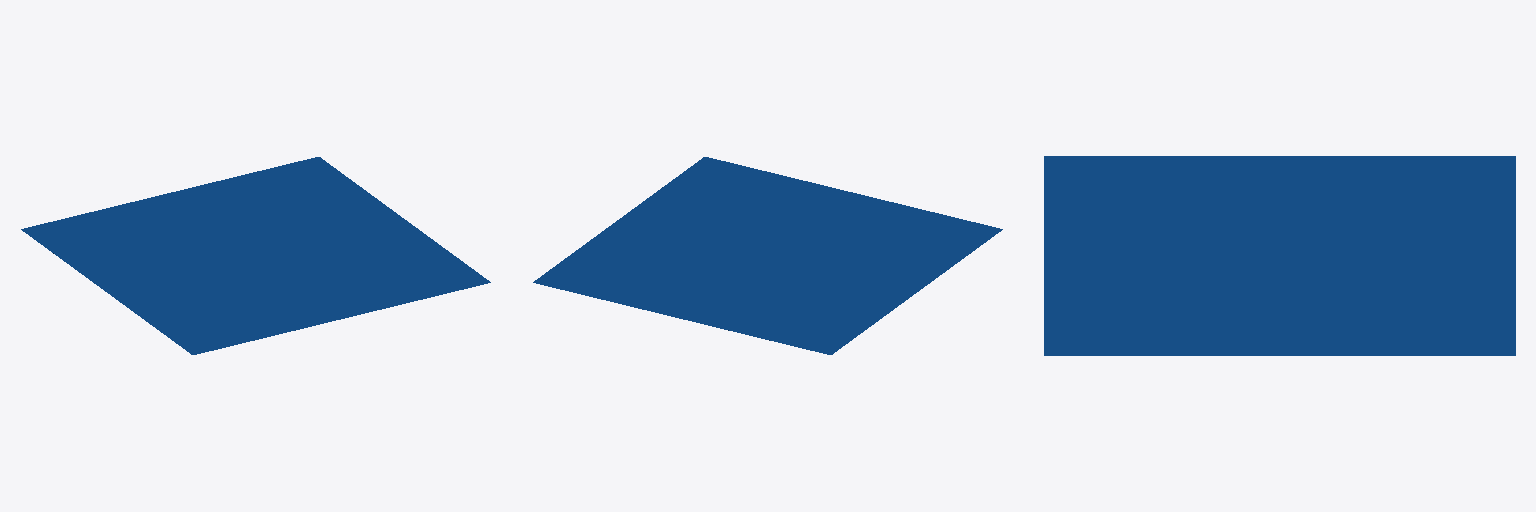
robot.urdf — sea:
<?xml version="1.0"?>
<!-- Mean sea level (z = 0 of the world frame) for visualisation only; the Gazebo wave field is not represented -->
<robot name="sea">
  <link name="world">
    <visual>
      <origin xyz="0 0 -0.005" rpy="0 0 0"/>
      <geometry><box size="400 400 0.01"/></geometry>
      <material name="sea"><color rgba="0.1 0.35 0.6 0.35"/></material>
    </visual>
  </link>
</robot>

--- What the picture shows (computed from the rendered views, not written in the file) ---
Views: 3 orthographic renders of the robot side by side, from view 1: azimuth 30°, elevation 25°; view 2: azimuth 150°, elevation 25°; view 3: azimuth 270°, elevation 25°.
Model sea with 1 links and 0 joints (none), rooted at world, posed all joints at 0.
Visible links, largest first — view 1: world; view 2: world; view 3: world.
Link boxes in pixels (x1,y1,x2,y2): world: [21, 157, 490, 354]; world: [533, 157, 1002, 354]; world: [1044, 156, 1515, 355].
Bounding box of the posed robot: 400 × 400 × 0.01 m (x, y, z).
Geometry: primitives only (box / cylinder / sphere), no mesh files.
